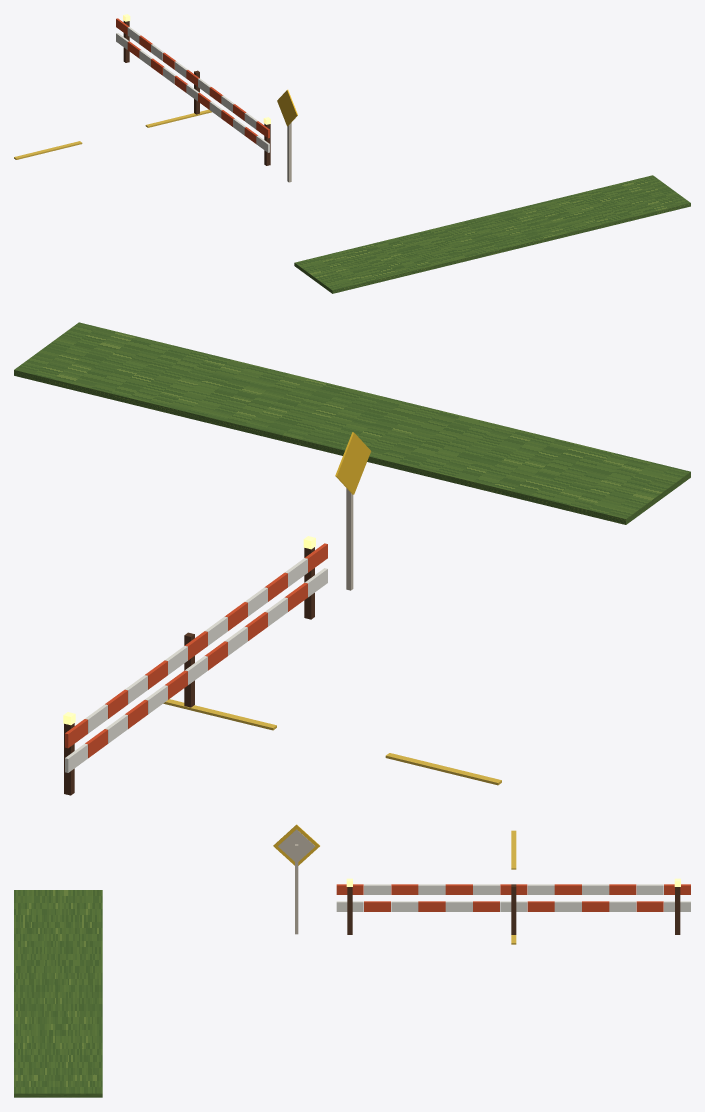
The model's file is structure.glb.
3 renders of one model, top to bottom at view 1: azimuth 30°, elevation 25°; view 2: azimuth 150°, elevation 25°; view 3: azimuth 270°, elevation 25°, orthographic. The views are drawn at different scales.
Parts seen in each view (by area): view 1: Box1; view 2: Box1, Box36, Box35, Box2, Box3; view 3: Box1, Box37.
Part boxes in pixels (x1=…): Box1: x1=294, y1=175, x2=690, y2=293; Box1: x1=14, y1=322, x2=690, y2=524; Box36: x1=335, y1=432, x2=371, y2=494; Box35: x1=346, y1=488, x2=353, y2=590; Box2: x1=385, y1=753, x2=501, y2=785; Box3: x1=163, y1=699, x2=276, y2=730; Box1: x1=14, y1=890, x2=102, y2=1097; Box37: x1=278, y1=829, x2=315, y2=861.
Size of the model in its own units: 14 by 2.81 by 15.28.
8 materials, 1 textured.
